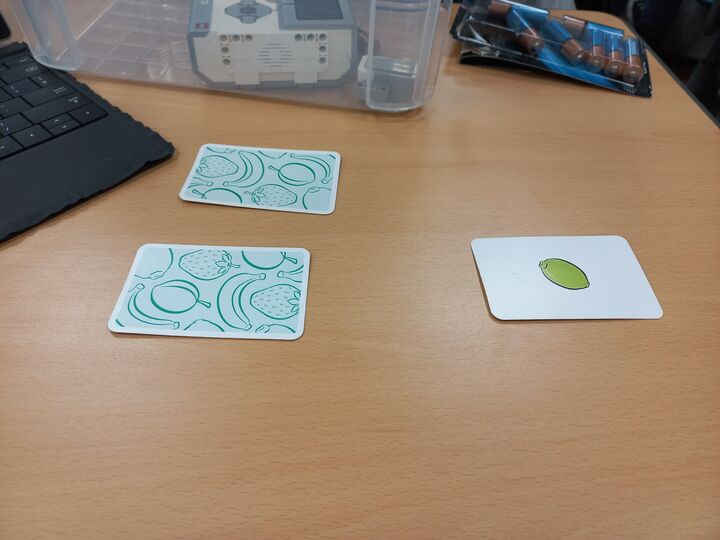lime1: (470, 234, 666, 323)
